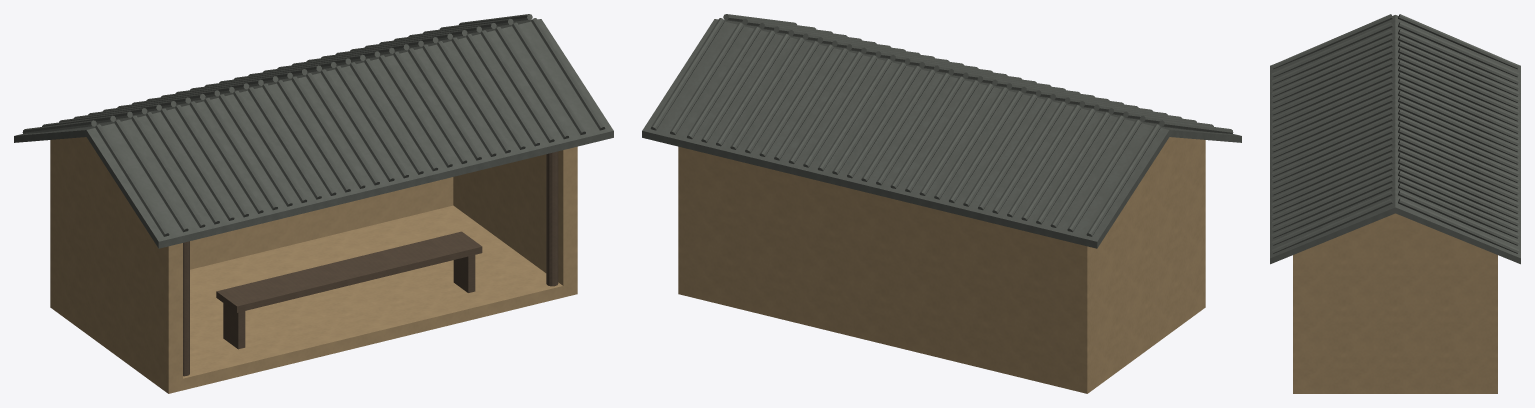
File: N14-private-path-png-text.glb
The picture shows the model from 3 angles, left to right: view 1: azimuth 30°, elevation 25°; view 2: azimuth 150°, elevation 25°; view 3: azimuth 270°, elevation 25°; orthographic projection. The views are drawn at different scales.
Parts seen in each view (by area): view 1: S84-static-LY_P01_tile__PBR, S84-static-LY_P01_earth__PBR, S84-static-LY_P01_timber__PBR; view 2: S84-static-LY_P01_earth__PBR, S84-static-LY_P01_tile__PBR; view 3: S84-static-LY_P01_tile__PBR, S84-static-LY_P01_earth__PBR.
Boxes of the visible parts, box(x1,y1,x2,y2) form: S84-static-LY_P01_tile__PBR: box(14, 14, 613, 248); S84-static-LY_P01_earth__PBR: box(50, 137, 577, 393); S84-static-LY_P01_timber__PBR: box(183, 151, 558, 376); S84-static-LY_P01_earth__PBR: box(678, 137, 1205, 393); S84-static-LY_P01_tile__PBR: box(642, 14, 1241, 248); S84-static-LY_P01_tile__PBR: box(1270, 14, 1520, 264); S84-static-LY_P01_earth__PBR: box(1293, 213, 1497, 393).
Size of the model in its own units: 8.9 by 4.33 by 4.9.
Materials: 3 (3 with a texture image).
